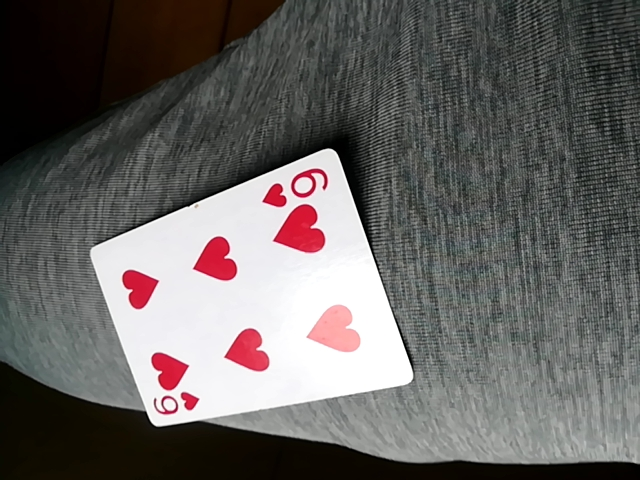hx 6: (89, 147, 411, 432)
